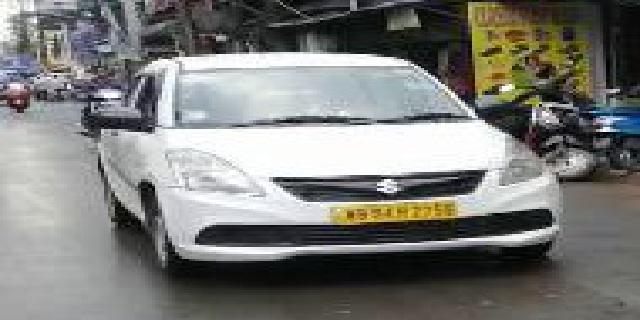Car: (85, 47, 570, 296)
